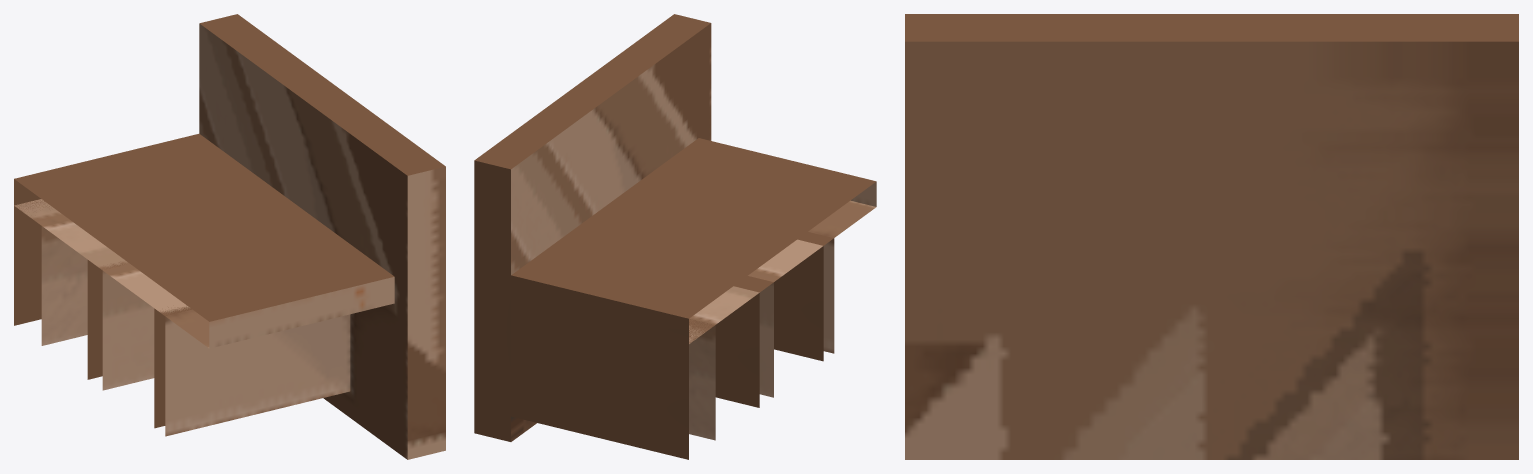
The model's file is pz_g022_location_shop_generic_01_long_shelves_part0.obj.
The picture shows the model from 3 angles, left to right: view 1: azimuth 30°, elevation 25°; view 2: azimuth 150°, elevation 25°; view 3: azimuth 270°, elevation 25°; orthographic projection. The views are drawn at different scales.
Parts seen in each view (by area): view 1: rear_panel_front, left_end_right, open_shelf_2_top, left_end_top, left_end_front, rear_panel_top, open_shelf_1_top, rear_panel_rear, open_shelf_0_top, open_shelf_0_bottom, open_shelf_1_bottom, open_shelf_2_bottom; view 2: rear_panel_front, left_end_right, open_shelf_0_bottom, left_end_bottom, left_end_front, rear_panel_bottom, open_shelf_2_bottom, open_shelf_1_bottom, rear_panel_rear, open_shelf_0_top, open_shelf_1_top, open_shelf_2_top; view 3: left_end_left, left_end_front.
Boxes of the visible parts, box(x1,y1,x2,y2) form: rear_panel_front: box(14, 133, 394, 321); left_end_right: box(199, 23, 407, 459); open_shelf_2_top: box(165, 314, 350, 436); left_end_top: box(407, 166, 445, 459); left_end_front: box(199, 14, 445, 175); rear_panel_top: box(209, 277, 394, 348); open_shelf_1_top: box(102, 271, 154, 390); rear_panel_rear: box(14, 199, 209, 347); open_shelf_0_top: box(41, 226, 87, 345); open_shelf_0_bottom: box(14, 206, 41, 325); open_shelf_1_bottom: box(87, 260, 102, 379); open_shelf_2_bottom: box(154, 308, 165, 428); rear_panel_front: box(511, 138, 876, 318); left_end_right: box(511, 23, 711, 441); open_shelf_0_bottom: box(511, 301, 688, 459); left_end_bottom: box(474, 160, 510, 441); left_end_front: box(474, 14, 710, 169); rear_panel_bottom: box(511, 275, 688, 344); open_shelf_2_bottom: box(774, 246, 823, 361); open_shelf_1_bottom: box(715, 293, 759, 407); rear_panel_rear: box(689, 200, 876, 343); open_shelf_0_top: box(689, 325, 715, 440); open_shelf_1_top: box(759, 282, 773, 397); open_shelf_2_top: box(823, 238, 834, 353); left_end_left: box(905, 41, 1518, 459); left_end_front: box(905, 14, 1518, 41).
Bounding box in the file's own units: 0.7 × 0.85 × 1.13.
1 material, 1 textured.
